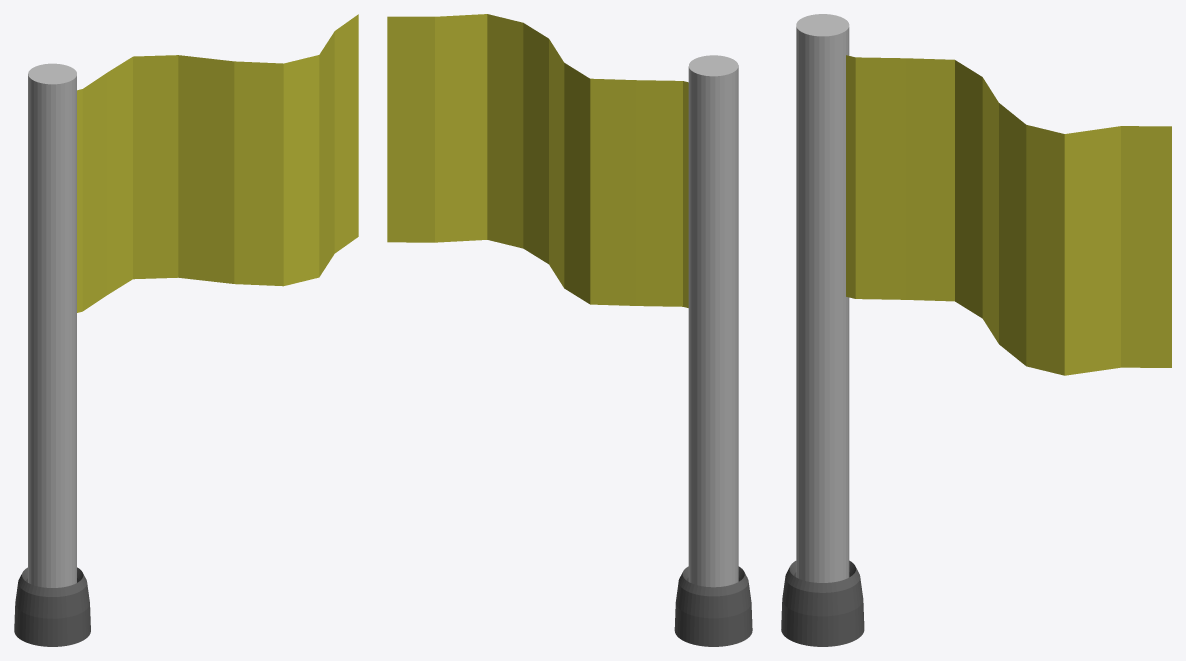
File: Flag.fbx
3 views of the same model, side by side, from view 1: azimuth 30°, elevation 25°; view 2: azimuth 150°, elevation 25°; view 3: azimuth 330°, elevation 25° (orthographic). The views are drawn at different scales.
Parts seen in each view (by area): view 1: Grid, Cylinder, Torus; view 2: Grid, Cylinder, Torus; view 3: Grid, Cylinder, Torus.
Boxes of the visible parts, x1,y1,x2,y2 form: Grid: (77, 14, 358, 312); Cylinder: (28, 63, 76, 587); Torus: (14, 567, 90, 646); Grid: (387, 14, 688, 307); Cylinder: (688, 55, 738, 587); Torus: (674, 566, 752, 646); Grid: (846, 55, 1171, 375); Cylinder: (796, 14, 849, 582); Torus: (781, 560, 864, 646).
Size of the model in its own units: 1.63 by 2.5 by 0.3456.
